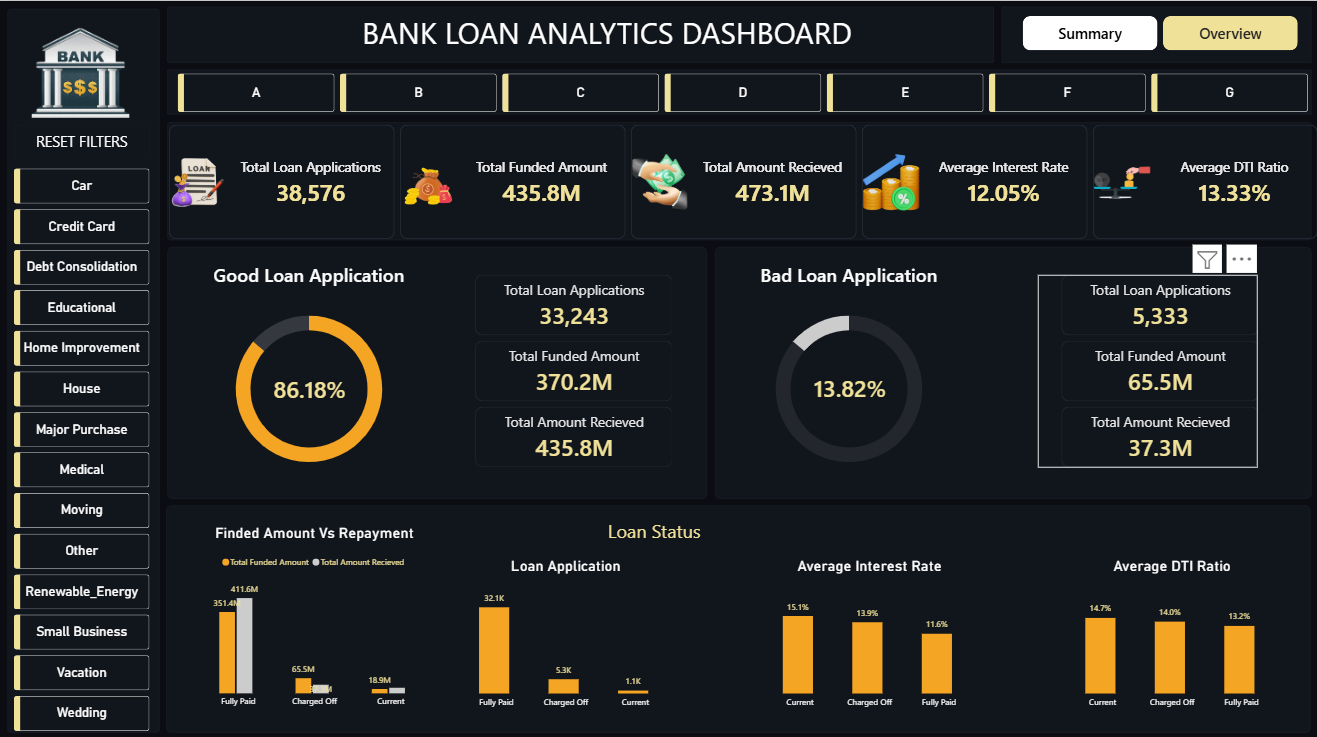

The dashboard page shown, as its layout file describes it:
{"tool":"powerbi","page":{"name":"Summary","canvas":[1920,1080],"ordinal":0},"visuals":[{"type":"cardVisual","fields":{"Data":["financial_loan.Total Loan Applications","financial_loan.Total Funded Amount","financial_loan.Total Amount Recieved","financial_loan.Average Interest Rate","financial_loan.Average DTI Rate"]},"box":[247.9,179.2,1672.1,166.5],"z":0},{"type":"donutChart","title":"Good Loan Application","fields":{"Category":["financial_loan.Good_Vs_Bad_Loan"],"Y":["financial_loan.Total Loan Applications"]},"box":[260.6,365.6,381.8,347.5],"z":1000},{"type":"donutChart","title":"Bad Loan Application","fields":{"Category":["financial_loan.Good_Vs_Bad_Loan"],"Y":["financial_loan.Total Loan Applications"]},"box":[1046,365.6,381.8,347.5],"z":2000},{"type":"cardVisual","fields":{"Data":["financial_loan.Good Loan %"]},"box":[351.1,524.8,202.7,76],"z":3000},{"type":"cardVisual","fields":{"Data":["financial_loan.Bad Loan %"]},"box":[1158.2,510.3,159.3,103.2],"z":4000},{"type":"cardVisual","fields":{"Data":["financial_loan.Total Loan Applications","financial_loan.Total Funded Amount","financial_loan.Total Amount Recieved","financial_loan.Average Interest Rate","financial_loan.Average DTI Rate"]},"box":[247.9,179.2,1672.1,166.5],"z":5000},{"type":"cardVisual","fields":{"Data":["financial_loan.Total Loan Applications","financial_loan.Total Funded Amount","financial_loan.Total Amount Recieved"],"Rows":["financial_loan.Good_Vs_Bad_Loan"]},"box":[658.7,398.1,320.3,282.3],"z":6000},{"type":"cardVisual","fields":{"Data":["financial_loan.Total Loan Applications","financial_loan.Total Funded Amount","financial_loan.Total Amount Recieved"],"Rows":["financial_loan.Good_Vs_Bad_Loan"]},"box":[1511.1,398.1,320.3,282.3],"z":7000},{"type":"clusteredColumnChart","title":"Finded Amount Vs Repayment","fields":{"Category":["financial_loan.LOAN_STATUS"],"Y":["financial_loan.Total Funded Amount","financial_loan.Total Amount Recieved"]},"box":[260.6,747.4,398.1,300.4],"z":8000},{"type":"clusteredColumnChart","title":"Loan Application","fields":{"Category":["financial_loan.LOAN_STATUS"],"Y":["financial_loan.Total Loan Applications"]},"box":[642.4,794.4,365.6,253.4],"z":9000},{"type":"textbox","box":[884.9,752.8,273.3,81.4],"z":10000},{"type":"clusteredColumnChart","title":"Average Interest Rate","fields":{"Category":["financial_loan.LOAN_STATUS"],"Y":["financial_loan.Average Interest Rate"]},"box":[1084,794.4,365.6,253.4],"z":11000},{"type":"clusteredColumnChart","title":"Average DTI Ratio","fields":{"Category":["financial_loan.LOAN_STATUS"],"Y":["financial_loan.Average DTI Ratio"]},"box":[1523.7,794.4,365.6,253.4],"z":12000},{"type":"image","box":[18.1,29,200.9,150.2],"z":13000},{"type":"advancedSlicerVisual","fields":{"Values":["financial_loan.PURPOSE"]},"box":[21.7,244.3,197.3,823.4],"z":14000},{"type":"advancedSlicerVisual","fields":{"Values":["financial_loan.GRADE"]},"box":[260.6,105,1646.8,56.1],"z":15000},{"type":"actionButton","box":[21.7,179.2,197.3,50.7],"z":16000},{"type":"textbox","box":[510.3,16.3,747.4,61.5],"z":17000},{"type":"pageNavigator","box":[1489.4,21.7,400,50],"z":18000}]}

Visuals, with their boxes in screenshot pixels (x1, y1, x2, y2), scaled from the page's 1920x1080 canvas onto the 1317x737 screenshot:
cardVisual - financial_loan.Total Loan Applications x financial_loan.Total Funded Amount: detection(170, 122, 1316, 236)
"Good Loan Application" donutChart: detection(179, 249, 441, 487)
"Bad Loan Application" donutChart: detection(717, 249, 979, 487)
cardVisual - financial_loan.Good Loan %: detection(241, 358, 380, 410)
cardVisual - financial_loan.Bad Loan %: detection(794, 348, 904, 419)
cardVisual - financial_loan.Total Loan Applications x financial_loan.Total Funded Amount: detection(170, 122, 1316, 236)
cardVisual - financial_loan.Total Loan Applications x financial_loan.Total Funded Amount: detection(452, 272, 672, 464)
cardVisual - financial_loan.Total Loan Applications x financial_loan.Total Funded Amount: detection(1037, 272, 1256, 464)
"Finded Amount Vs Repayment" clusteredColumnChart: detection(179, 510, 452, 715)
"Loan Application" clusteredColumnChart: detection(441, 542, 691, 715)
textbox: detection(607, 514, 794, 569)
"Average Interest Rate" clusteredColumnChart: detection(744, 542, 994, 715)
"Average DTI Ratio" clusteredColumnChart: detection(1045, 542, 1296, 715)
image: detection(12, 20, 150, 122)
advancedSlicerVisual - financial_loan.PURPOSE: detection(15, 167, 150, 729)
advancedSlicerVisual - financial_loan.GRADE: detection(179, 72, 1308, 110)
actionButton: detection(15, 122, 150, 157)
textbox: detection(350, 11, 863, 53)
pageNavigator: detection(1022, 15, 1296, 49)
